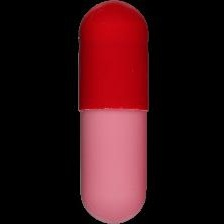61919-016: (0, 0, 224, 224)
